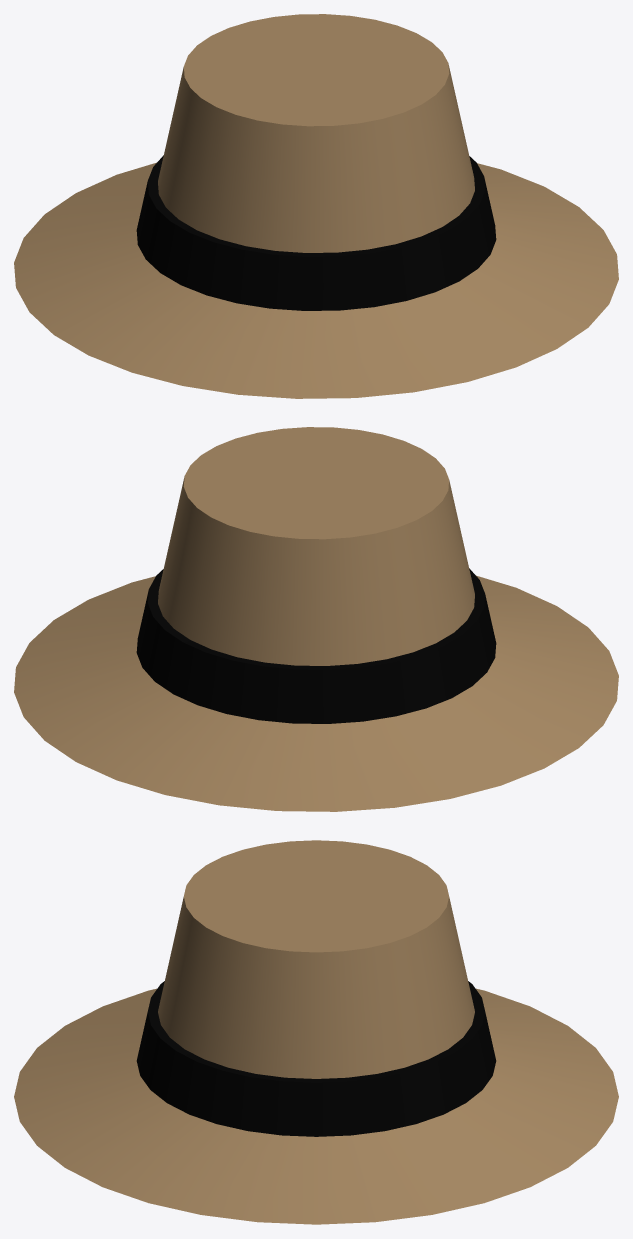
The model's file is hat.fbx.
3 renders of one model, top to bottom at view 1: azimuth 30°, elevation 25°; view 2: azimuth 150°, elevation 25°; view 3: azimuth 270°, elevation 25°, orthographic.
Visible parts, largest first — view 1: Cylinder; view 2: Cylinder; view 3: Cylinder.
Boxes of the visible parts, x1=… form: Cylinder: x1=14, y1=14, x2=618, y2=398; Cylinder: x1=14, y1=427, x2=618, y2=811; Cylinder: x1=14, y1=840, x2=618, y2=1224.
Bounding box in the file's own units: 619 × 226 × 619.
